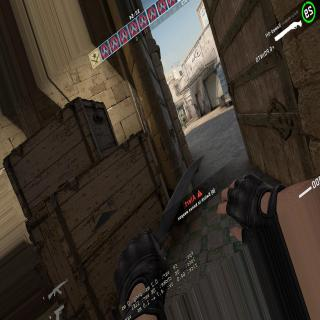CT-Body: (181, 116, 187, 129)
CT-Head: (182, 116, 184, 119)
